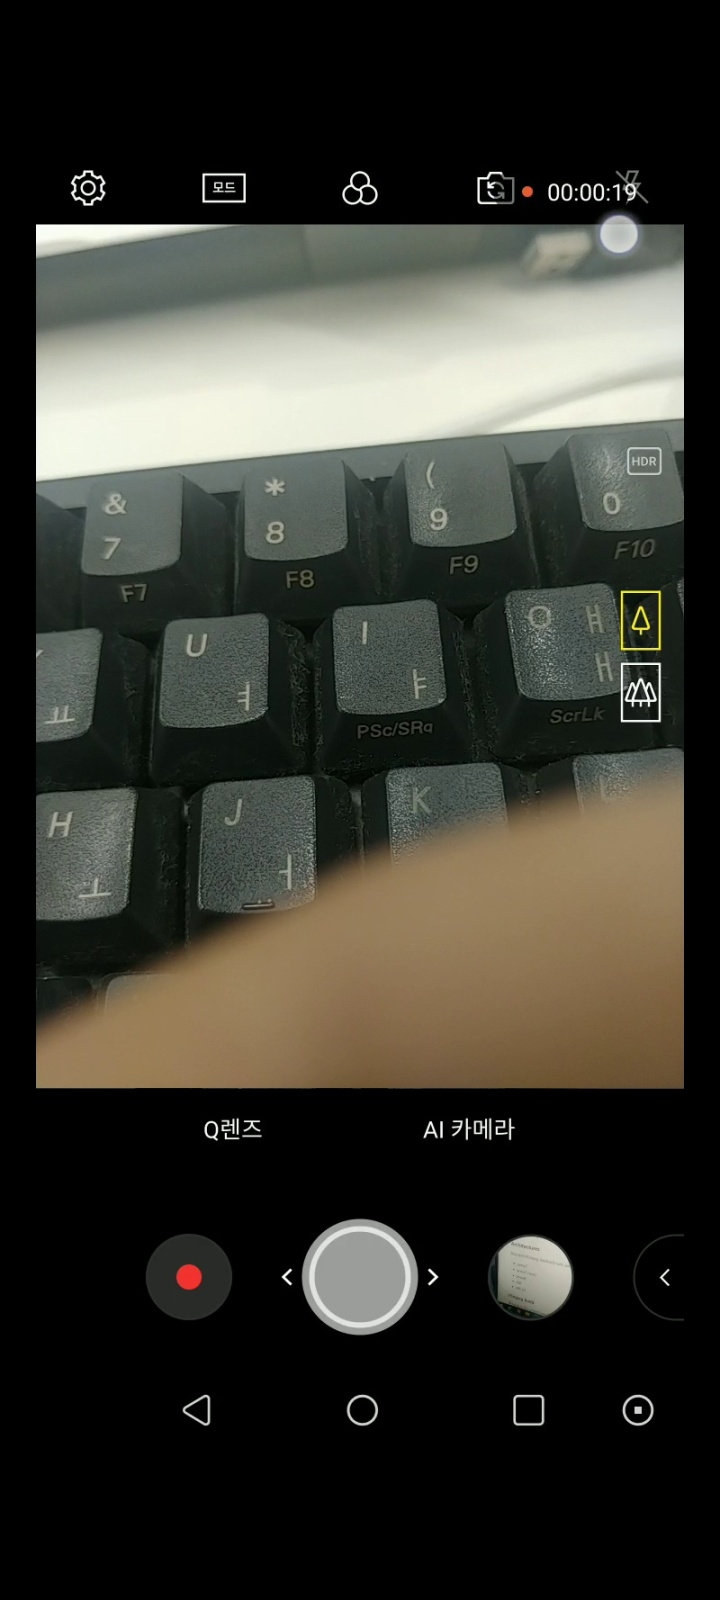Cursor: (598, 211, 642, 257)
